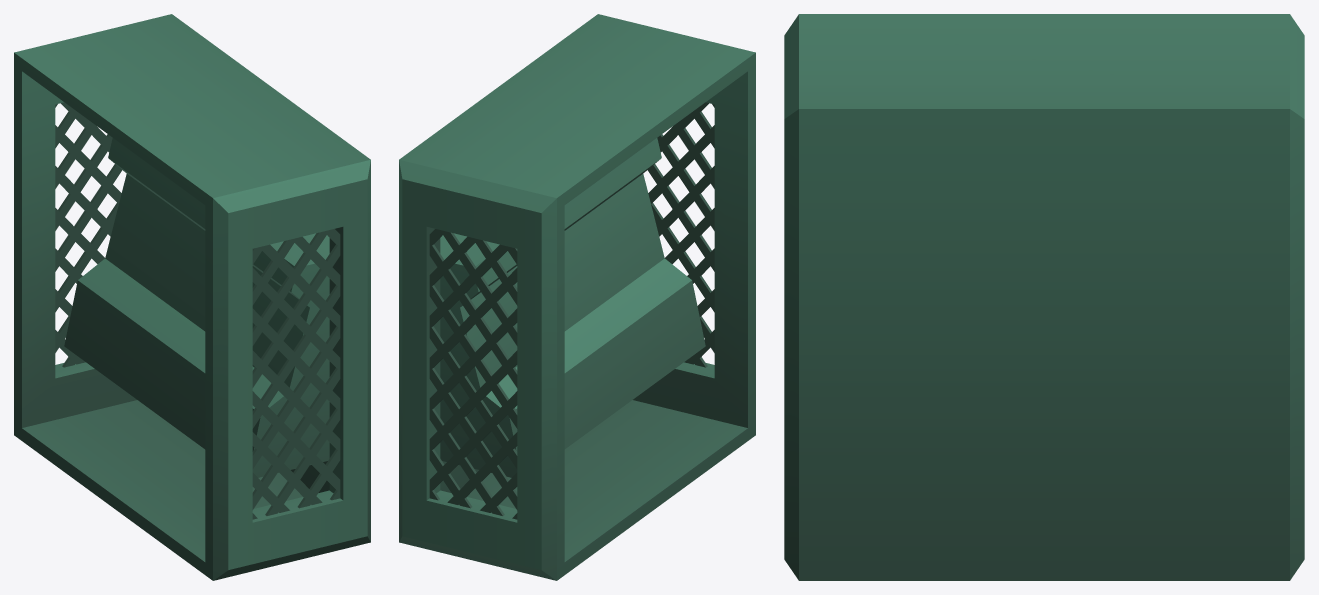
The model's file is GunShelf.fbx.
The picture shows the model from 3 angles, left to right: view 1: azimuth 30°, elevation 25°; view 2: azimuth 150°, elevation 25°; view 3: azimuth 270°, elevation 25°; orthographic projection. The views are drawn at different scales.
Visible parts, largest first — view 1: GunShelf; view 2: GunShelf; view 3: GunShelf.
Boxes of the visible parts, x1,y1,x2,y2 form: GunShelf: (14, 14, 370, 580); GunShelf: (399, 14, 755, 580); GunShelf: (784, 14, 1304, 580).
Bounding box in the file's own units: 110 × 254 × 254.
